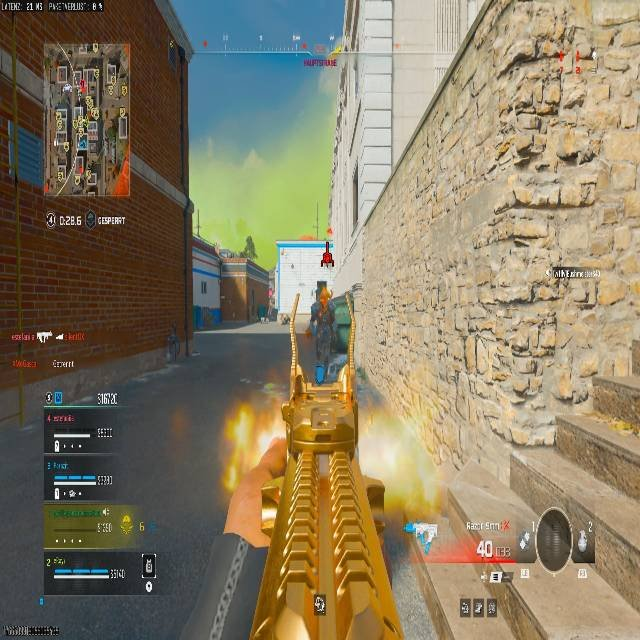head: (316, 280, 326, 290)
player: (306, 281, 350, 385), (311, 280, 334, 337), (319, 245, 333, 269)
